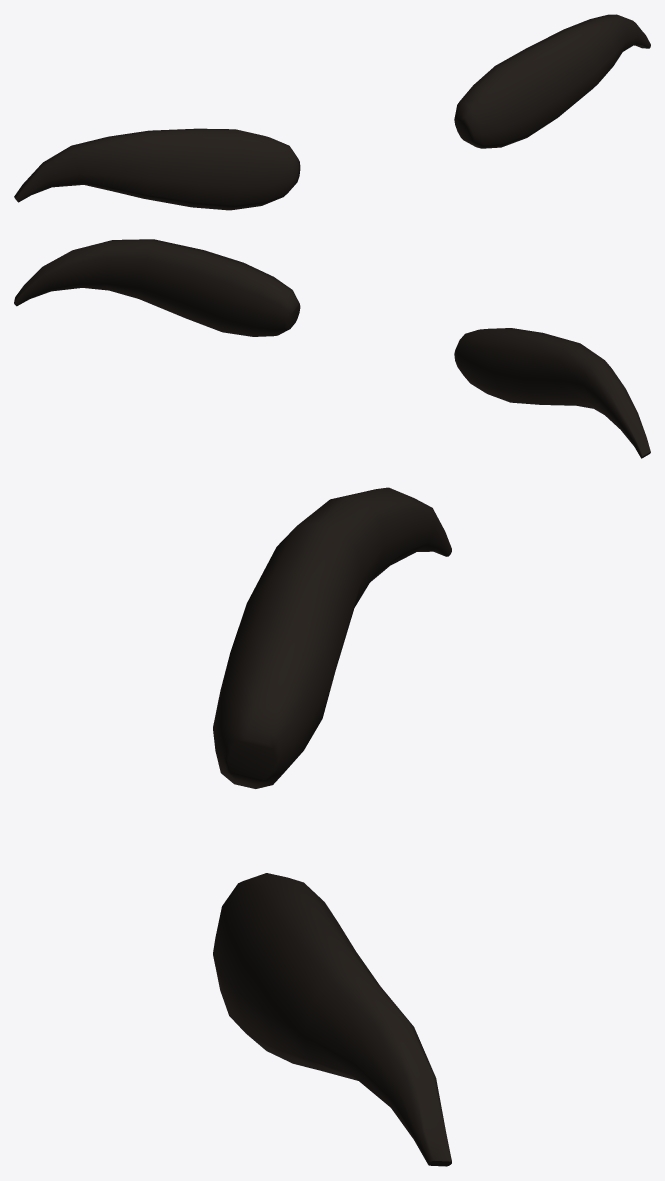
File: Eyebrows_23_01.fbx
3 views of the same model, one above another, from view 1: azimuth 30°, elevation 25°; view 2: azimuth 150°, elevation 25°; view 3: azimuth 270°, elevation 25° (orthographic). The views are drawn at different scales.
Parts seen in each view (by area): view 1: Eyebrows_23_01; view 2: Eyebrows_23_01; view 3: Eyebrows_23_01.
Part boxes in pixels (bbox=[...]): Eyebrows_23_01: bbox=[14, 14, 650, 210]; Eyebrows_23_01: bbox=[14, 239, 650, 458]; Eyebrows_23_01: bbox=[213, 487, 451, 1166].
Bounding box in the file's own units: 19.19 × 2.4 × 3.13.
